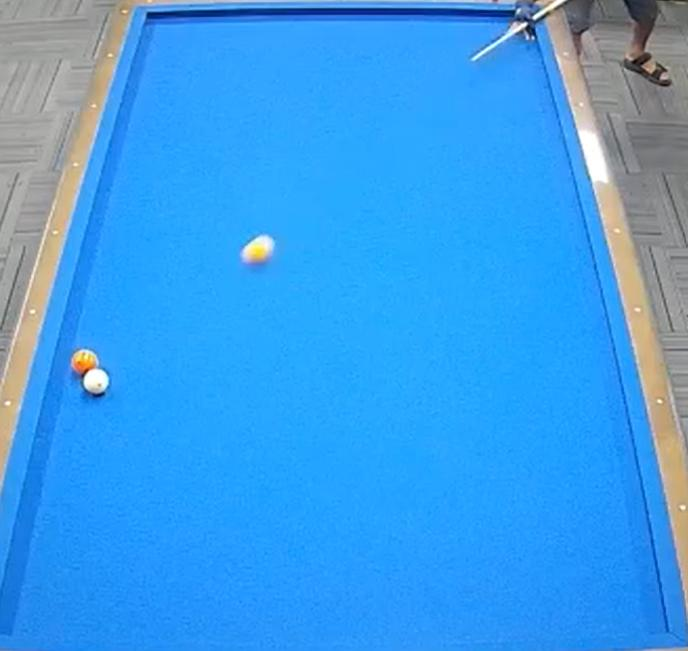orange ball: (69, 348, 102, 381)
white ball: (79, 362, 114, 402)
yellow ball: (235, 230, 283, 276)
